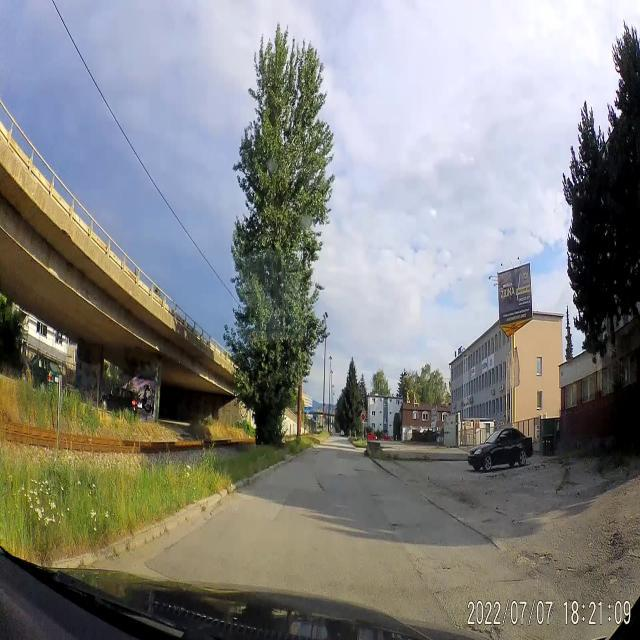Pothole: (506, 536, 560, 586), (385, 513, 409, 543)
